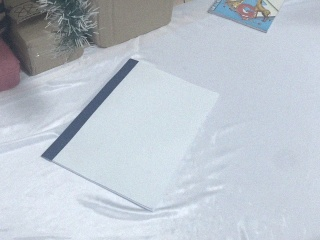box: (1, 1, 86, 77), (94, 1, 174, 48)
toy_car: (228, 1, 282, 21)
